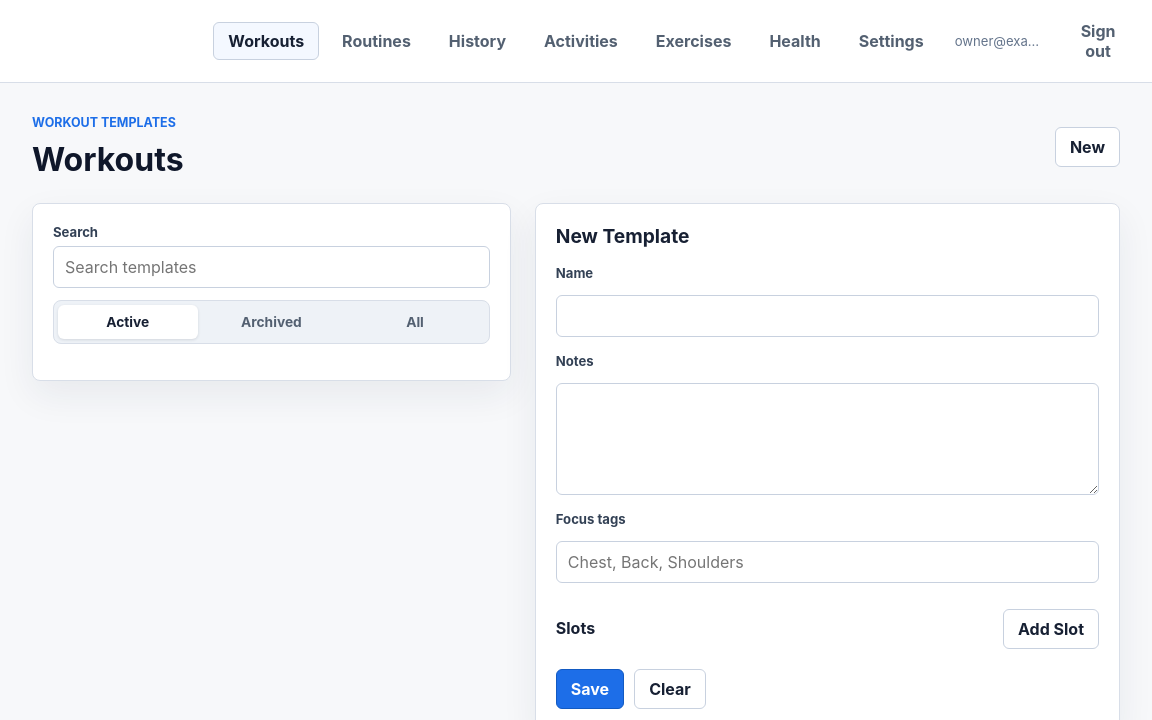
Test: App › edits a completed workout history set with lock version
Click the button "History".
click(477, 41)  # box [434,22,521,60]
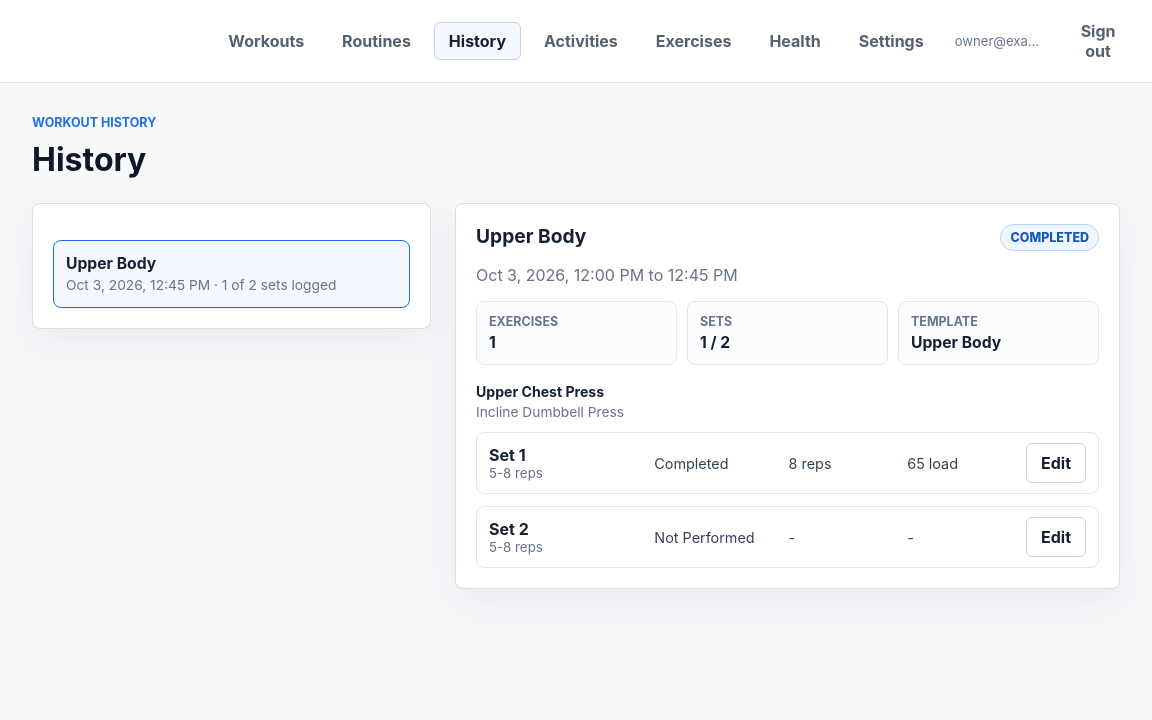
Check: the text "8 reps" is shown, box [789,454,832,472]
Click the button with aria-label "Edit set 1".
click(1056, 463)  # box [1026,443,1086,483]
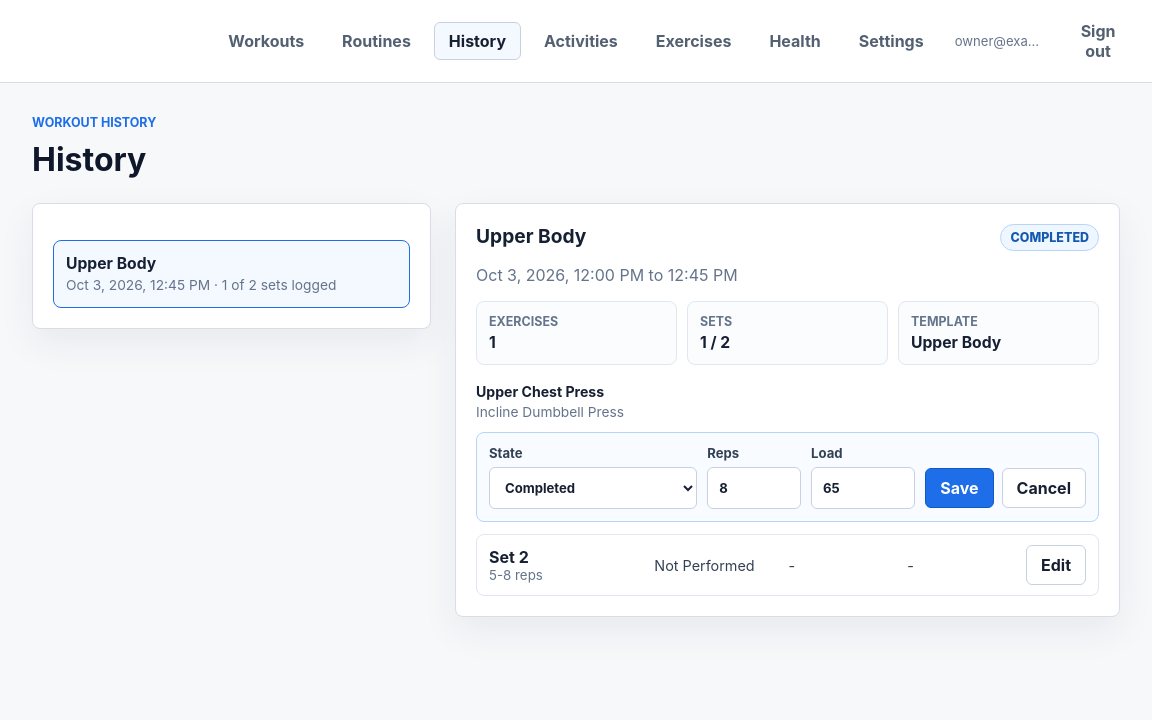
Replace the text in the number field named "Set 1 actual reps" with "7" at (754, 488), box [707,467,801,509]
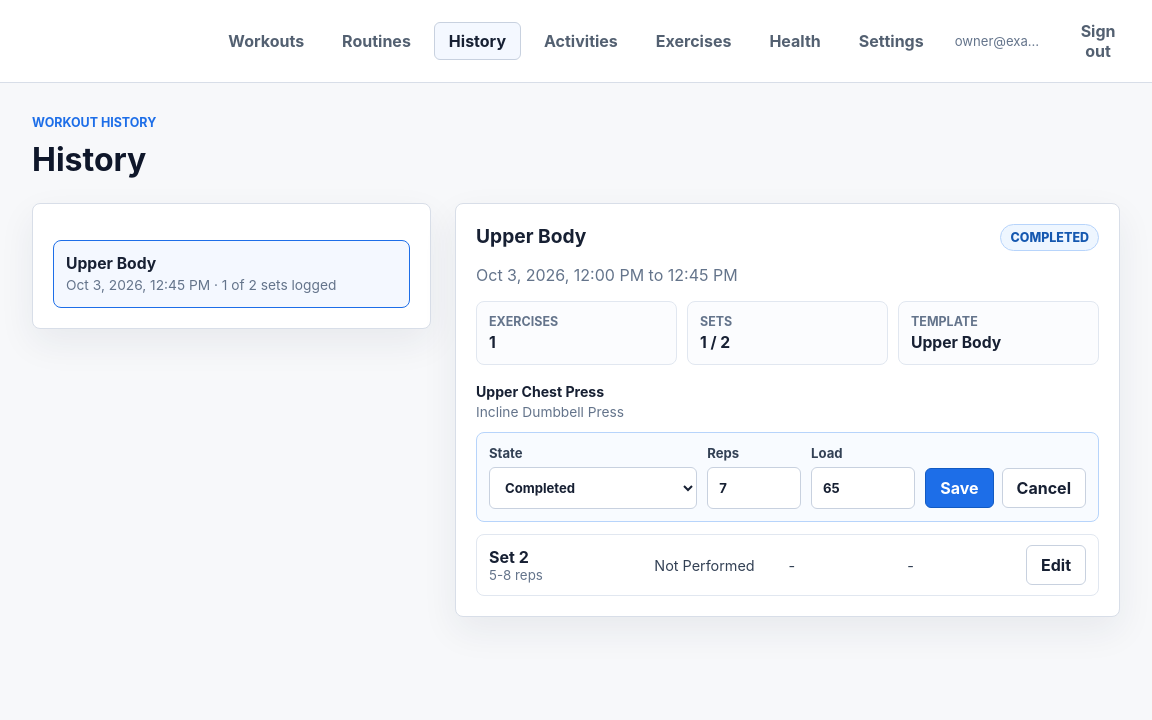
Replace the text in the number field named "Set 1 actual load" with "62.5" at (863, 488), box [811,467,915,509]
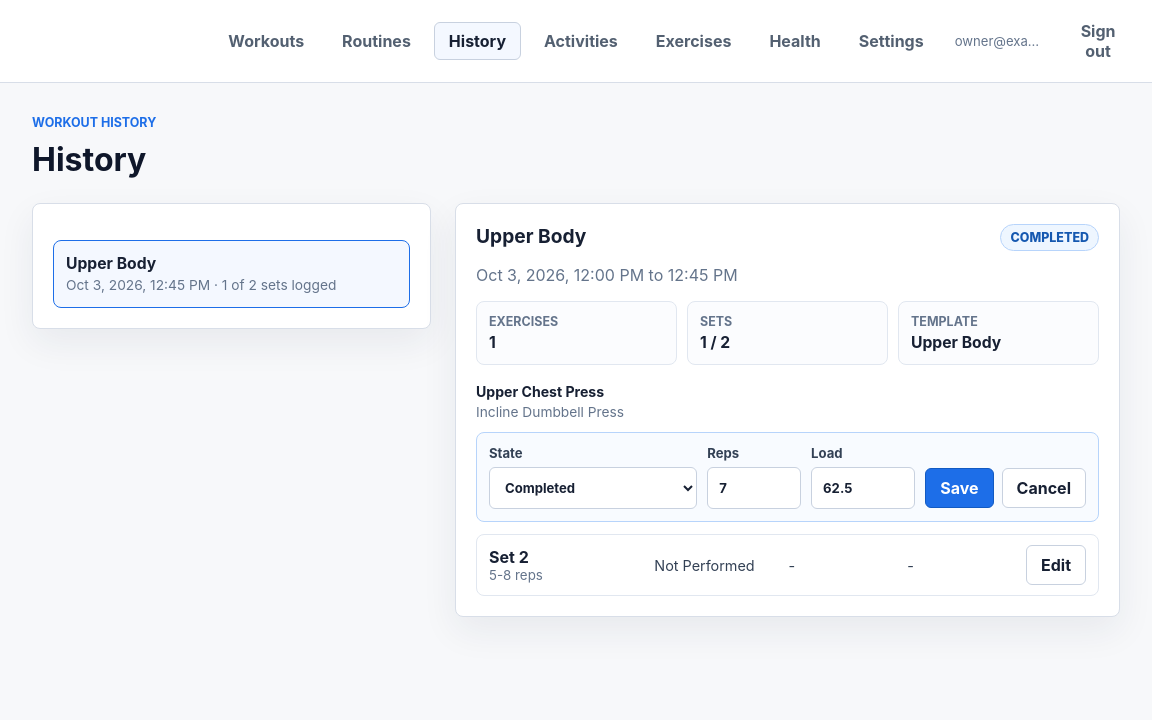
Click the button "Save".
click(959, 488)  # box [925,468,994,508]
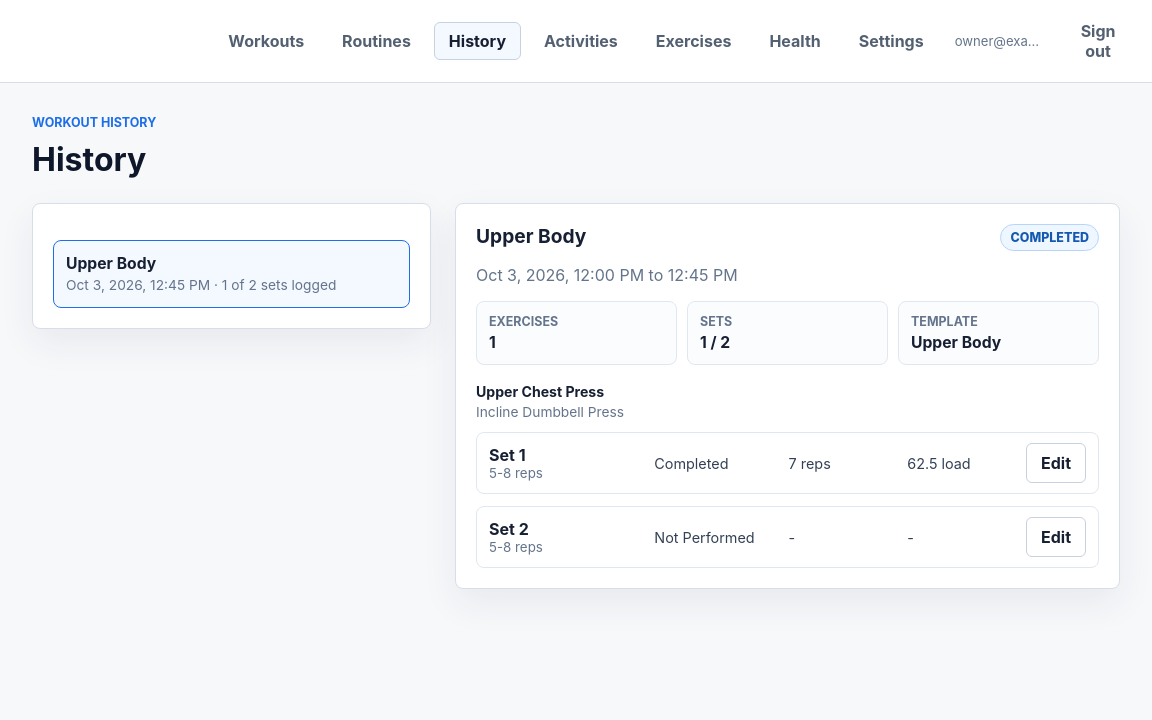
Check: the text "7 reps" is shown, box [789,454,831,472]
Check: the text "62.5 load" is shown, box [907,454,971,472]
